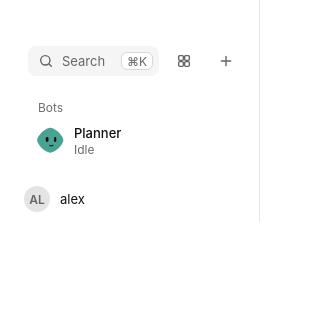
Test case: Sidebar tolerates a bots map that disagrees with the sorted id list (unsafe-lookups fix) › closes the context menu instead of crashing if its Bot disappears while the menu is open
Right-click the link "Planner Idle": (79, 141) [36,125,121,157]
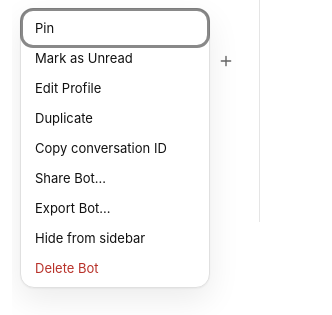
Result: the menu item "Pin" is shown at [25,13,205,43]
